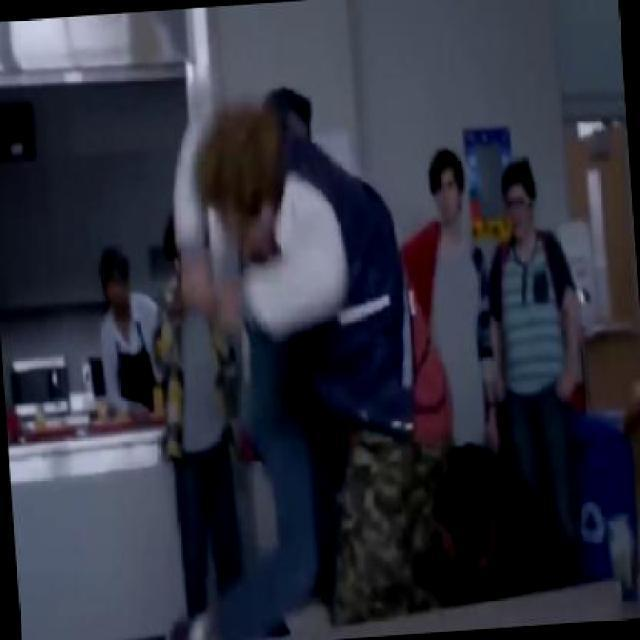fight: (165, 83, 466, 632)
non-fight: (472, 154, 600, 554)
